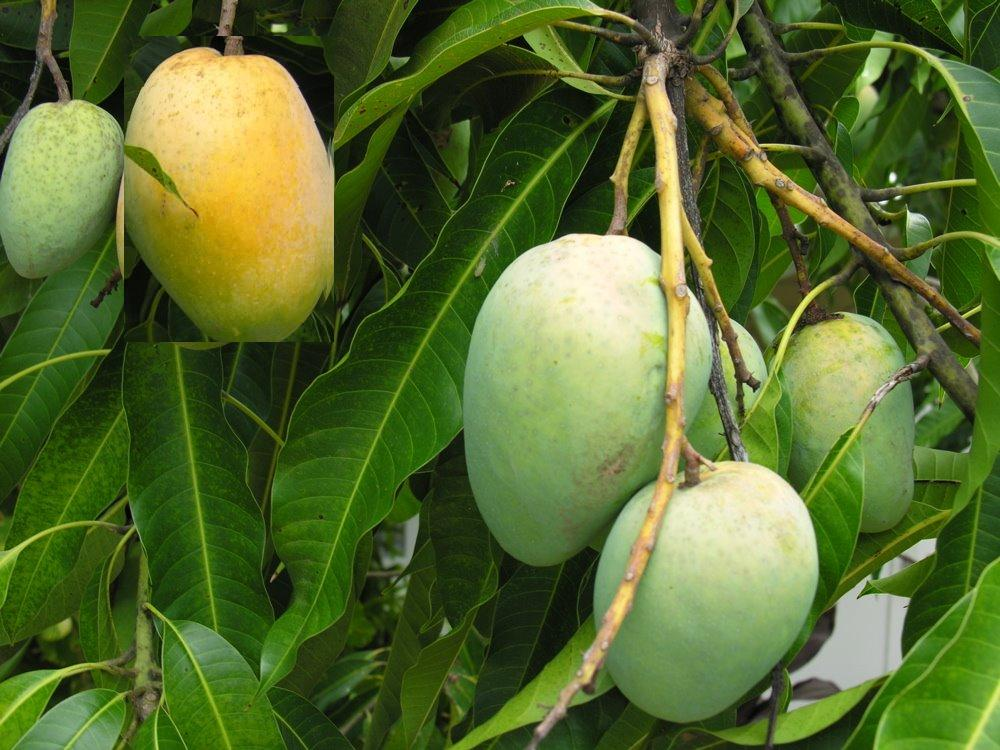Mango Fresh: (124, 36, 334, 342)
